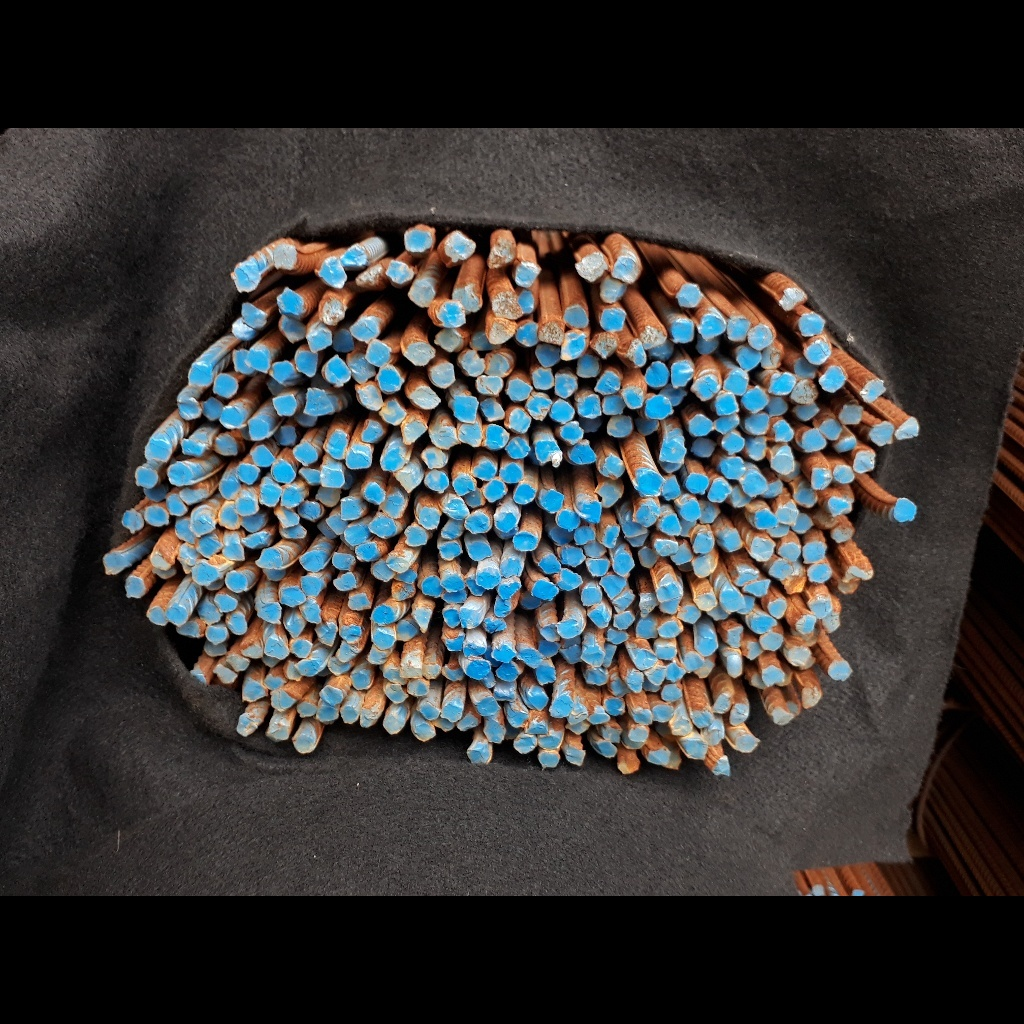dipstick: (304, 388, 333, 416), (319, 259, 346, 289), (576, 254, 606, 281), (396, 464, 423, 493), (319, 295, 345, 325), (232, 264, 260, 291), (446, 233, 474, 260), (405, 342, 435, 367), (277, 288, 304, 314), (619, 339, 645, 366), (326, 357, 351, 385), (190, 561, 218, 586), (562, 331, 586, 360), (771, 446, 795, 475), (280, 316, 306, 342), (819, 366, 845, 392), (454, 395, 479, 422), (404, 229, 432, 253), (490, 239, 514, 267), (437, 302, 466, 325), (351, 318, 381, 340), (381, 399, 406, 425), (409, 281, 435, 306), (357, 264, 384, 288), (597, 480, 621, 507), (351, 355, 374, 383), (324, 431, 347, 459), (435, 330, 463, 353), (410, 387, 439, 409), (377, 367, 402, 392), (614, 258, 639, 283), (869, 421, 894, 446), (367, 341, 393, 365), (431, 364, 457, 388), (591, 332, 617, 356), (380, 448, 407, 471), (431, 426, 458, 449), (466, 539, 494, 561), (567, 442, 595, 464), (368, 517, 397, 538), (242, 303, 266, 328), (359, 384, 383, 409), (460, 351, 484, 376), (454, 287, 479, 311), (727, 316, 751, 341), (646, 395, 671, 419), (748, 324, 772, 349), (638, 471, 663, 495), (751, 537, 775, 562), (212, 375, 238, 398), (534, 440, 560, 463), (495, 293, 521, 316), (642, 324, 665, 350), (700, 315, 726, 338), (464, 514, 491, 536), (487, 320, 514, 342), (422, 448, 450, 469), (425, 469, 449, 493), (607, 414, 631, 438), (806, 340, 830, 364), (246, 350, 271, 373), (307, 329, 332, 352), (516, 263, 541, 286), (554, 374, 577, 399), (677, 283, 700, 308), (197, 537, 223, 559), (536, 748, 562, 770), (646, 361, 668, 387), (671, 362, 693, 388), (558, 547, 585, 568), (273, 244, 296, 268), (220, 407, 244, 430), (168, 462, 192, 485), (602, 280, 626, 303), (601, 308, 625, 331), (578, 394, 601, 418), (725, 371, 748, 395), (743, 389, 767, 412), (792, 380, 815, 404), (861, 380, 885, 403), (895, 416, 918, 440), (188, 364, 213, 386), (507, 378, 532, 400), (506, 437, 531, 459), (536, 345, 561, 367), (799, 314, 824, 336), (801, 429, 826, 451), (742, 474, 767, 496), (342, 246, 368, 267), (145, 441, 171, 462), (538, 322, 564, 343), (780, 290, 806, 311), (555, 571, 582, 591), (481, 399, 504, 422), (458, 423, 481, 446), (541, 490, 564, 513), (624, 726, 647, 749), (597, 372, 620, 395), (635, 505, 658, 528), (177, 399, 201, 421), (301, 550, 325, 572), (242, 679, 266, 701), (486, 354, 510, 376), (564, 305, 588, 327), (692, 377, 716, 399), (724, 372, 748, 394), (771, 373, 795, 395), (745, 413, 769, 435), (894, 497, 916, 521), (214, 436, 239, 457), (272, 395, 297, 416), (296, 351, 317, 376), (403, 526, 428, 547), (475, 376, 500, 397), (602, 695, 627, 716), (529, 394, 550, 419), (344, 526, 370, 546), (279, 586, 305, 606), (271, 692, 297, 712), (437, 541, 464, 560), (135, 466, 158, 488), (259, 602, 282, 624), (446, 497, 469, 519), (508, 409, 531, 431), (532, 368, 555, 390), (576, 355, 598, 378), (810, 468, 833, 490), (145, 505, 169, 526), (247, 418, 268, 442), (271, 462, 295, 483), (224, 572, 248, 593), (403, 422, 427, 443), (484, 425, 505, 449), (551, 401, 575, 422), (102, 553, 127, 573), (660, 441, 685, 461), (387, 262, 413, 281), (492, 598, 518, 617), (656, 583, 683, 601), (252, 445, 274, 467), (191, 513, 213, 535), (550, 696, 572, 718), (602, 456, 624, 478), (516, 323, 538, 345), (294, 443, 317, 464), (341, 497, 362, 520), (228, 612, 249, 635), (372, 605, 395, 626), (672, 319, 693, 342), (738, 349, 761, 370), (720, 457, 743, 478), (854, 451, 875, 474), (686, 473, 709, 494), (660, 514, 681, 537), (613, 553, 634, 576), (603, 576, 626, 597), (360, 422, 384, 442), (750, 616, 778, 633), (334, 327, 353, 352), (392, 582, 417, 601), (475, 570, 500, 589), (555, 509, 580, 528), (319, 469, 345, 487), (466, 746, 492, 764), (494, 512, 520, 530), (355, 544, 384, 560), (198, 602, 219, 624), (284, 615, 305, 637), (351, 670, 372, 692), (396, 621, 418, 642), (485, 480, 506, 502), (588, 604, 609, 626), (581, 646, 603, 667), (560, 422, 582, 443), (690, 415, 712, 436), (722, 590, 743, 612), (808, 595, 829, 617), (272, 363, 295, 383), (274, 426, 297, 446), (617, 754, 640, 774), (715, 394, 738, 414), (746, 437, 766, 460), (384, 685, 408, 704), (472, 461, 496, 480), (514, 533, 538, 552), (586, 668, 610, 687), (650, 341, 674, 360), (803, 542, 827, 561), (828, 661, 852, 680), (346, 450, 371, 468), (332, 552, 357, 570), (714, 415, 739, 433), (845, 564, 873, 580), (336, 644, 362, 661), (237, 463, 258, 484), (178, 544, 199, 565), (316, 624, 337, 645), (237, 715, 258, 736), (384, 713, 405, 734), (622, 387, 643, 408), (202, 399, 222, 421), (122, 509, 144, 529), (146, 606, 168, 626), (320, 686, 342, 706), (721, 433, 743, 453), (635, 619, 657, 639), (242, 514, 265, 533), (258, 548, 281, 567), (268, 722, 291, 741), (374, 629, 397, 648), (463, 635, 486, 654), (691, 438, 714, 457), (754, 511, 777, 530), (634, 650, 657, 669), (233, 349, 251, 373), (175, 519, 193, 543), (275, 509, 299, 527), (265, 640, 289, 658), (518, 649, 542, 667), (793, 404, 820, 420), (663, 476, 681, 500), (464, 659, 489, 676), (496, 664, 521, 681), (167, 604, 187, 625), (507, 708, 528, 728), (581, 502, 602, 522), (537, 666, 558, 686), (723, 529, 743, 550), (693, 533, 714, 553), (384, 495, 403, 517), (126, 576, 145, 598), (334, 573, 356, 592), (419, 507, 438, 529), (821, 419, 843, 438), (701, 501, 720, 523), (829, 497, 851, 516), (245, 533, 271, 549), (175, 623, 201, 639), (219, 507, 237, 530), (222, 542, 245, 560), (206, 625, 229, 643), (500, 465, 523, 483), (539, 555, 562, 573), (533, 582, 556, 600), (587, 558, 610, 576), (783, 576, 806, 594), (671, 718, 694, 736), (441, 522, 465, 539), (493, 682, 517, 699), (469, 333, 493, 350), (743, 581, 770, 596), (233, 321, 253, 341), (282, 487, 302, 507), (301, 605, 321, 625), (293, 732, 313, 752), (329, 660, 354, 676), (692, 557, 712, 577), (614, 610, 634, 630), (219, 480, 240, 499), (260, 485, 279, 506), (363, 484, 384, 503), (349, 593, 370, 612), (372, 562, 393, 581), (414, 723, 435, 742), (421, 578, 442, 597), (773, 421, 792, 442), (833, 465, 854, 484), (696, 637, 717, 656), (290, 639, 312, 657), (414, 609, 432, 631), (478, 698, 500, 716), (454, 477, 476, 495), (602, 396, 624, 414), (840, 405, 862, 423), (726, 626, 744, 648), (655, 643, 677, 661), (652, 704, 674, 722), (318, 490, 341, 507), (302, 577, 325, 594), (493, 647, 516, 664), (552, 528, 575, 545), (635, 418, 658, 435), (795, 490, 818, 507), (735, 568, 758, 585), (808, 565, 831, 582), (760, 633, 783, 650), (653, 539, 677, 555), (659, 621, 683, 637), (486, 723, 506, 742), (575, 526, 595, 545), (529, 690, 548, 710), (561, 645, 581, 664), (761, 349, 780, 369), (169, 495, 187, 516), (400, 660, 421, 678), (581, 587, 602, 605), (779, 543, 800, 561), (483, 618, 508, 633), (537, 734, 562, 749), (300, 501, 322, 518), (214, 666, 236, 683), (440, 704, 462, 721), (386, 556, 408, 573), (464, 490, 486, 507), (499, 581, 521, 598), (557, 620, 579, 637), (795, 361, 817, 378), (770, 561, 792, 578), (735, 735, 757, 752), (181, 439, 204, 455), (696, 339, 719, 355), (441, 590, 467, 604), (814, 514, 840, 528), (420, 702, 439, 721), (459, 609, 478, 628), (516, 735, 535, 754), (501, 559, 520, 578), (681, 501, 700, 520), (742, 642, 761, 661), (180, 488, 204, 503), (235, 498, 255, 516), (262, 567, 286, 582), (243, 641, 263, 659), (566, 747, 586, 765), (568, 705, 586, 725), (589, 707, 609, 725), (794, 514, 812, 534), (638, 550, 658, 568), (823, 612, 841, 632), (340, 626, 361, 643), (298, 658, 319, 675), (596, 740, 617, 757), (731, 487, 748, 508), (661, 685, 682, 702), (216, 595, 238, 611), (695, 594, 717, 610), (681, 655, 703, 671), (685, 740, 707, 756), (731, 704, 747, 726), (145, 487, 168, 502), (406, 681, 429, 696), (442, 575, 465, 590), (767, 523, 790, 538), (445, 633, 463, 652), (694, 710, 713, 728), (801, 688, 819, 707), (341, 704, 358, 724), (466, 578, 486, 595), (514, 486, 534, 503), (777, 507, 797, 524), (725, 656, 742, 676), (762, 668, 782, 685), (833, 526, 854, 542), (671, 547, 692, 563), (628, 670, 643, 692), (622, 523, 647, 536), (610, 679, 628, 697), (667, 664, 685, 682), (443, 609, 460, 628), (603, 724, 622, 741), (633, 708, 652, 725), (614, 593, 633, 610), (770, 600, 787, 619), (712, 757, 729, 776), (787, 648, 806, 665), (300, 469, 320, 485), (318, 705, 338, 721), (539, 641, 559, 657), (648, 748, 668, 764), (715, 694, 731, 714), (519, 595, 545, 607), (520, 292, 534, 314), (581, 417, 603, 431), (834, 438, 856, 452), (153, 552, 170, 570), (329, 517, 346, 535), (540, 623, 557, 641), (769, 398, 787, 415), (229, 655, 248, 671), (297, 701, 316, 717), (360, 708, 376, 727), (422, 663, 441, 679), (767, 479, 783, 498), (647, 666, 666, 682), (773, 709, 792, 725), (264, 674, 284, 689), (443, 666, 463, 681), (524, 723, 549, 735), (680, 606, 700, 621), (368, 649, 391, 662), (585, 543, 608, 556), (458, 715, 479, 729), (605, 525, 619, 546), (640, 595, 657, 612), (670, 388, 686, 406), (397, 571, 418, 584), (206, 645, 228, 657), (707, 729, 723, 745), (838, 583, 859, 595), (281, 527, 306, 537), (798, 615, 814, 630), (286, 663, 300, 680), (569, 724, 590, 735), (608, 630, 627, 642), (744, 596, 756, 614), (384, 668, 400, 681), (700, 660, 712, 677), (628, 536, 646, 547), (661, 463, 682, 472), (435, 720, 452, 731), (660, 602, 677, 613), (752, 674, 765, 688), (670, 753, 680, 769), (644, 684, 661, 693)
